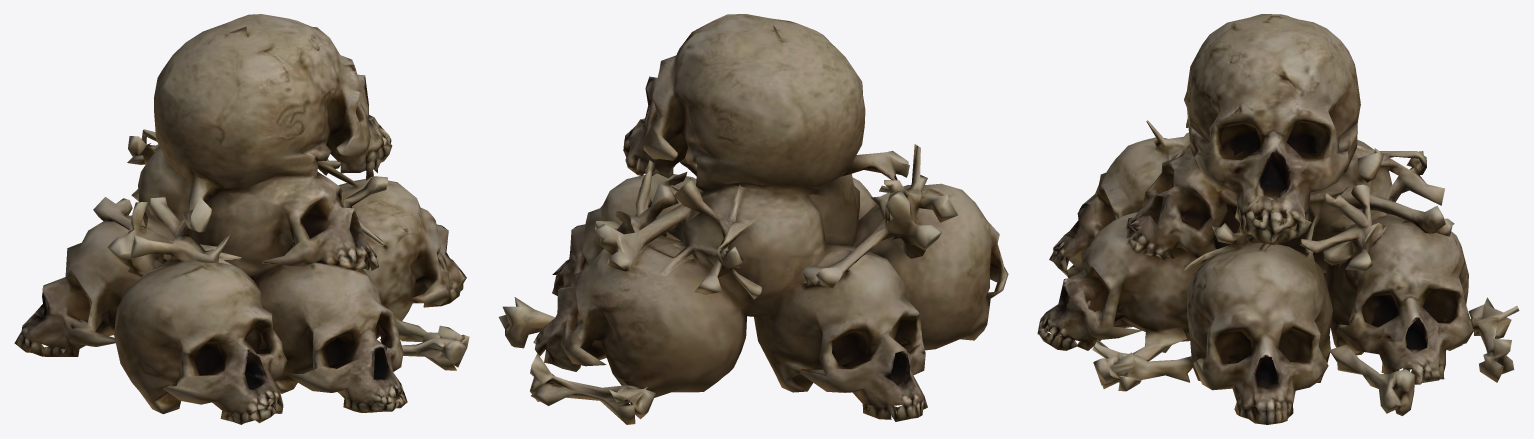
File: bones.glb
The picture shows the model from 3 angles, left to right: view 1: azimuth 30°, elevation 25°; view 2: azimuth 150°, elevation 25°; view 3: azimuth 270°, elevation 25°; orthographic projection. The views are drawn at different scales.
Visible parts, largest first — view 1: tripo_node_d8bdcc22-7e2e-40ca-a312-4a59cd9f2fd1; view 2: tripo_node_d8bdcc22-7e2e-40ca-a312-4a59cd9f2fd1; view 3: tripo_node_d8bdcc22-7e2e-40ca-a312-4a59cd9f2fd1.
Part boxes in pixels (x1,y1,x2,y2): tripo_node_d8bdcc22-7e2e-40ca-a312-4a59cd9f2fd1: [14, 14, 469, 424]; tripo_node_d8bdcc22-7e2e-40ca-a312-4a59cd9f2fd1: [498, 14, 1008, 424]; tripo_node_d8bdcc22-7e2e-40ca-a312-4a59cd9f2fd1: [1037, 14, 1519, 424].
Bounding box in the file's own units: 0.9578 × 0.714 × 1.
1 material, 1 textured.
